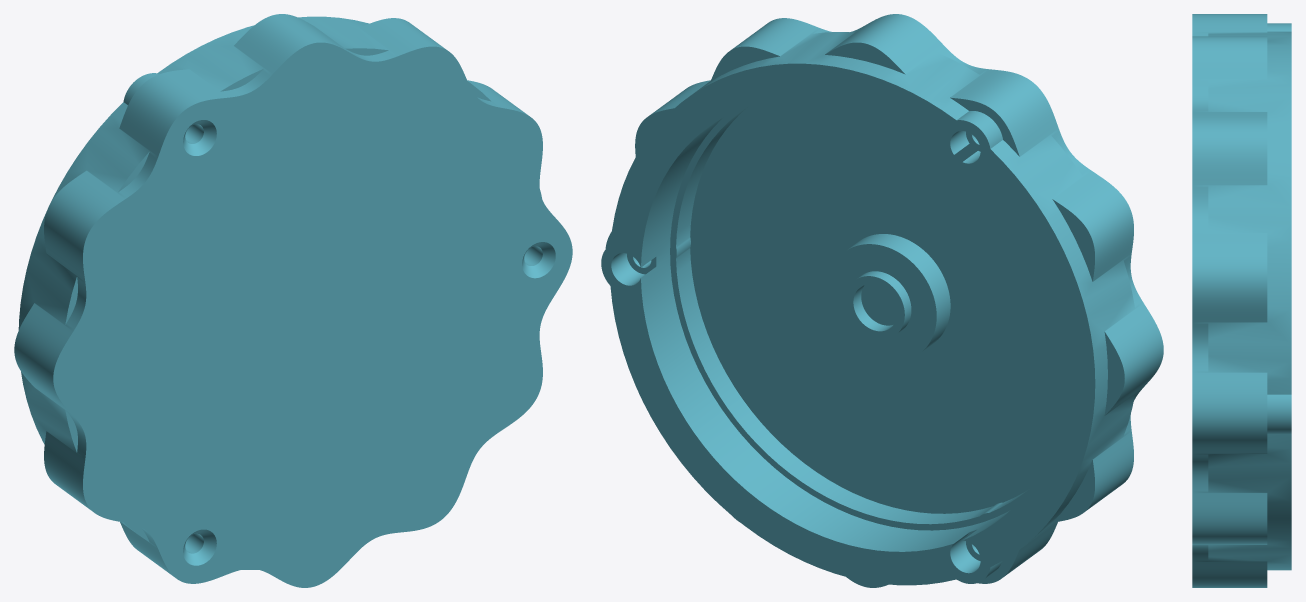
File: Cap_scalloped_coin.glb
The picture shows the model from 3 angles, left to right: view 1: azimuth 30°, elevation 25°; view 2: azimuth 150°, elevation 25°; view 3: azimuth 270°, elevation 25°; orthographic projection. The views are drawn at different scales.
Parts seen in each view (by area): view 1: Cap_scalloped_coin_0; view 2: Cap_scalloped_coin_0; view 3: Cap_scalloped_coin_0.
Boxes of the visible parts, bbox=[...] form: Cap_scalloped_coin_0: bbox=[14, 14, 572, 587]; Cap_scalloped_coin_0: bbox=[601, 14, 1163, 587]; Cap_scalloped_coin_0: bbox=[1192, 14, 1291, 587].
Bounding box in the file's own units: 61.6 × 61.6 × 10.6.
